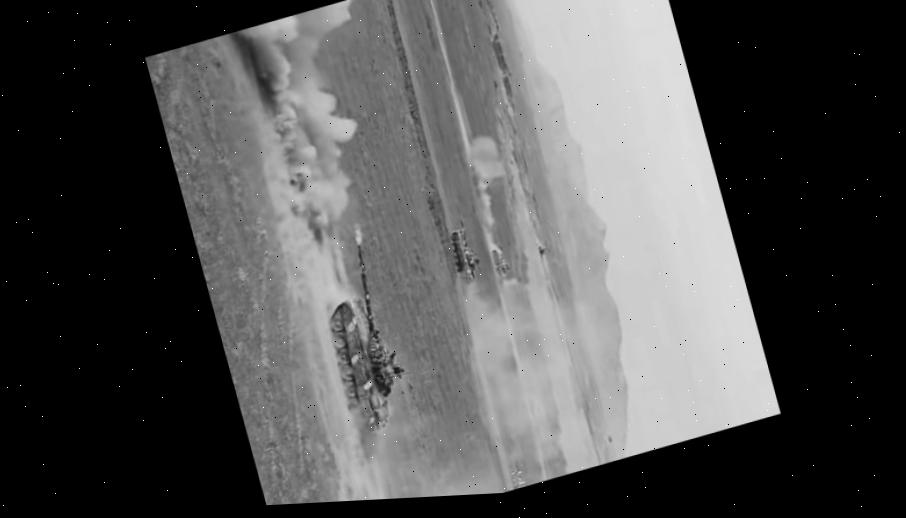tank: (303, 238, 419, 442), (445, 223, 488, 290), (489, 245, 513, 280)
